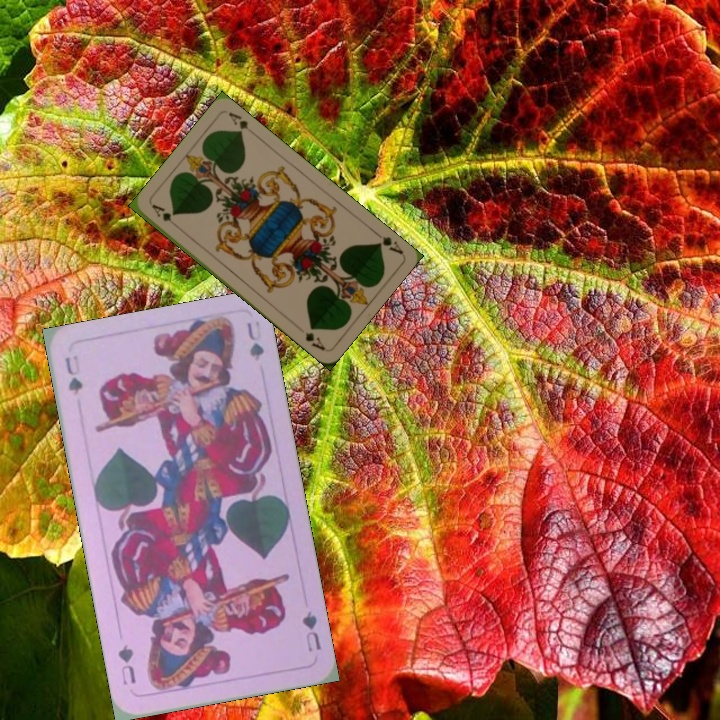GA: (148, 200, 182, 231), (370, 227, 405, 257)
GU: (298, 607, 324, 654), (60, 351, 85, 398)
